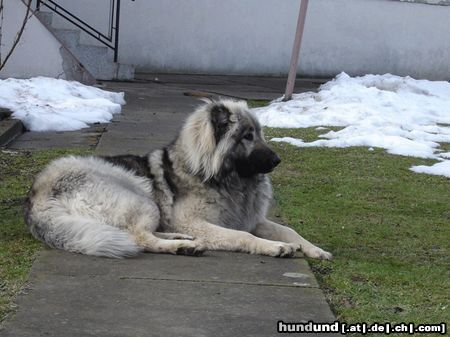cau_ovcharka: (24, 96, 333, 261)
